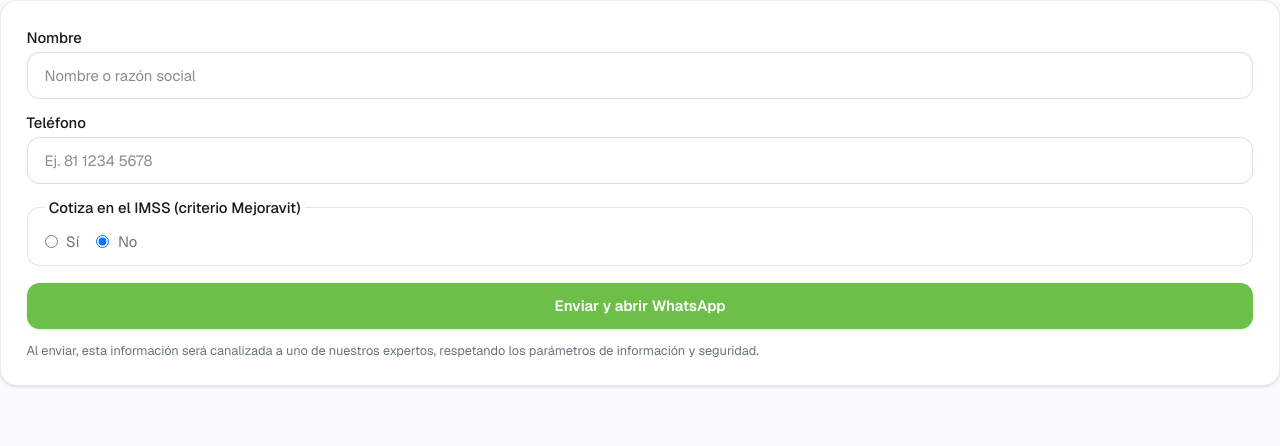
Scenario: LeadForm › shows validation errors on empty submit
Click the button "Enviar y abrir WhatsApp": click(640, 306) [26, 283, 1254, 329]
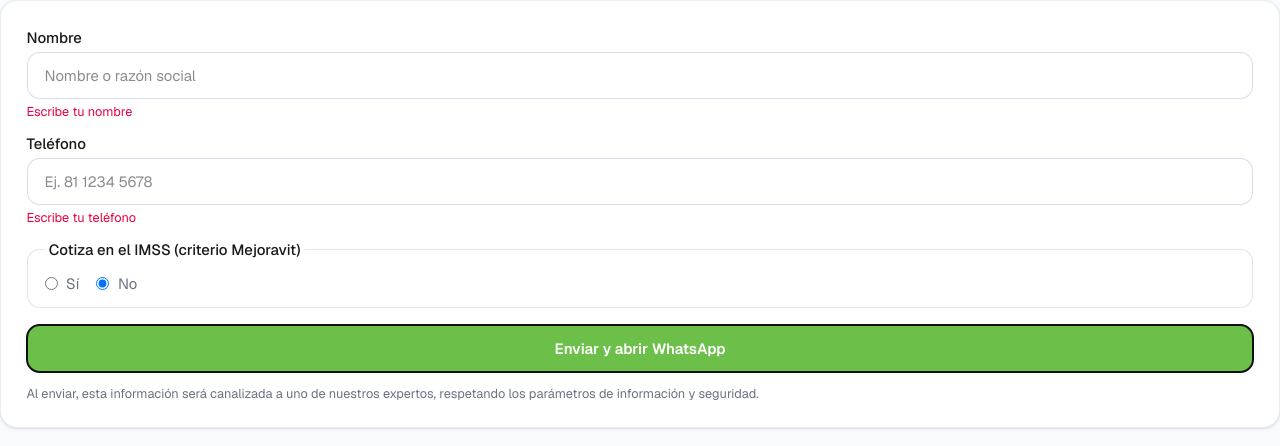
Expected: the text "Escribe tu nombre" is shown, [26, 103, 132, 120]
Expected: the text "Escribe tu teléfono" is shown, [26, 209, 136, 226]
